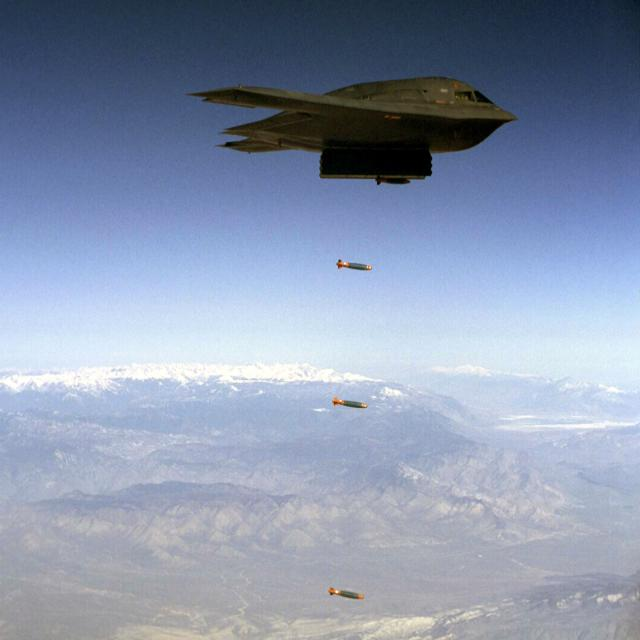MIL_Plane: (184, 76, 519, 180)
